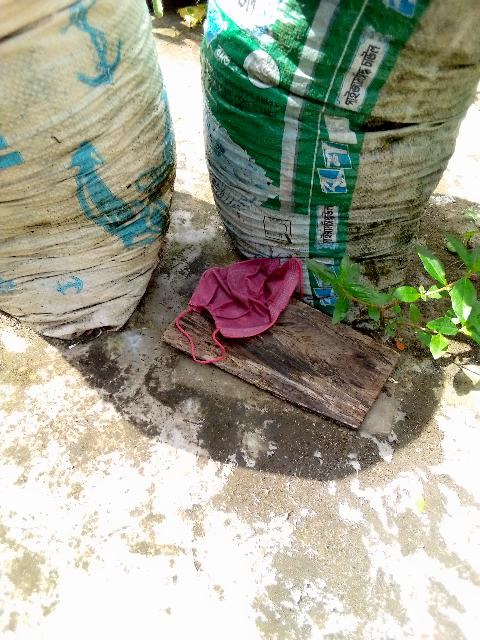mask: (199, 256, 299, 332)
